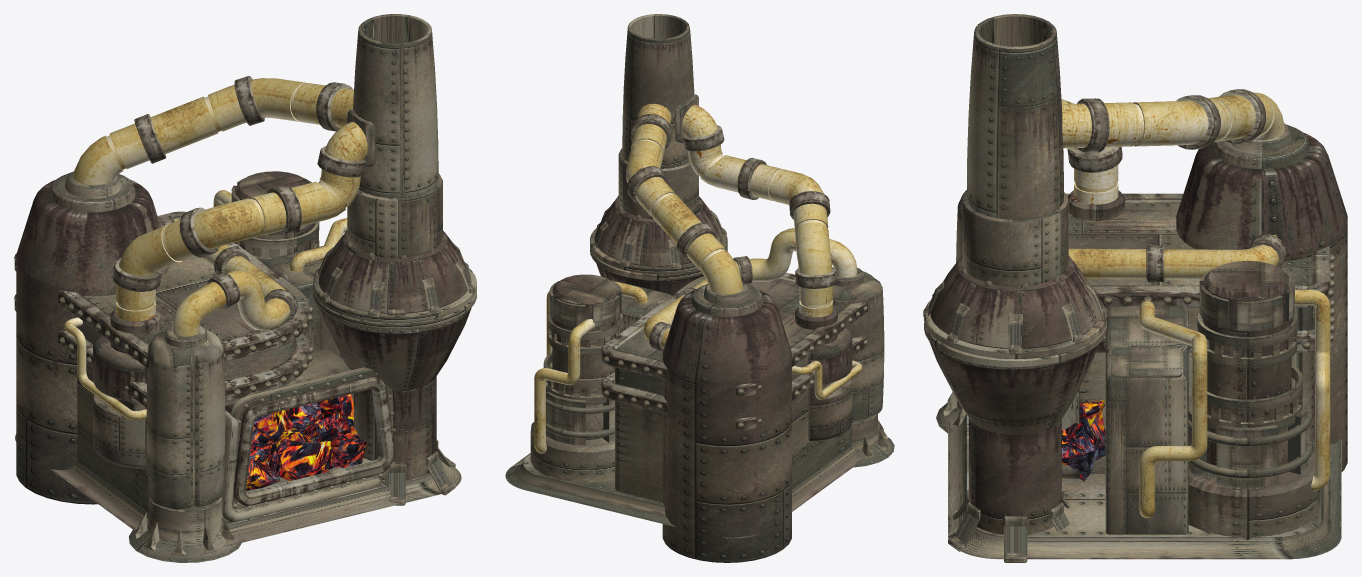
The model's file is static.fbx.
3 renders of one model, left to right at view 1: azimuth 30°, elevation 25°; view 2: azimuth 150°, elevation 25°; view 3: azimuth 270°, elevation 25°, orthographic. The views are drawn at different scales.
Visible parts, largest first — view 1: Cylinder_1_4, Cylinder_2_Cube, Cylinder_Cube, Sweep_1_Cloner, Sweep_Cloner, Extrude, Cylinder_8, Loft, Cylinder_4_2, Sweep_6, Cylinder_3_4, Boole (+38 smaller); view 2: Cylinder_1_4, Extrude, Sweep_1_Cloner, Cylinder_2_Cube, Sweep_Cloner, Loft, Cylinder_Cube, Cylinder_2, Boole, Sweep_1_6, Cylinder_8, Cylinder_1 (+28 smaller); view 3: Cylinder_2_Cube, Cylinder_1_4, Loft, Cube, Cylinder_8, Extrude, Cylinder_1_5, Cylinder_4_2, Cylinder_2, Sweep_Cloner, Cylinder_3_4, Cylinder_1 (+31 smaller).
Part boxes in pixels (x1,y1,x2,y2): Cylinder_1_4: (16, 179, 169, 504); Cylinder_2_Cube: (353, 14, 438, 198); Cylinder_Cube: (146, 330, 225, 509); Sweep_1_Cloner: (116, 122, 367, 321); Sweep_Cloner: (73, 78, 353, 185); Extrude: (77, 256, 294, 512); Cylinder_8: (319, 231, 471, 313); Loft: (15, 433, 461, 547); Cylinder_4_2: (320, 308, 471, 390); Sweep_6: (233, 376, 394, 505); Cylinder_3_4: (347, 173, 442, 257); Boole: (93, 334, 145, 468); Cylinder_1_4: (662, 289, 791, 562); Extrude: (615, 279, 854, 502); Sweep_1_Cloner: (682, 104, 832, 317); Cylinder_2_Cube: (622, 14, 694, 168); Sweep_Cloner: (626, 104, 742, 294); Loft: (505, 445, 863, 538); Cylinder_Cube: (832, 271, 884, 421); Cylinder_2: (552, 274, 618, 439); Boole: (808, 328, 852, 440); Sweep_1_6: (601, 272, 868, 396); Cylinder_8: (594, 196, 722, 266); Cylinder_1: (530, 422, 614, 482); Cylinder_2_Cube: (966, 14, 1063, 219); Cylinder_1_4: (1176, 132, 1347, 471); Loft: (948, 414, 1341, 559); Cube: (1105, 306, 1188, 534); Cylinder_8: (930, 256, 1100, 348); Extrude: (1068, 203, 1312, 473); Cylinder_1_5: (969, 418, 1061, 534); Cylinder_4_2: (929, 341, 1097, 435); Cylinder_2: (1203, 261, 1291, 465); Sweep_Cloner: (1061, 92, 1284, 148); Cylinder_3_4: (962, 192, 1068, 286); Cylinder_1: (1188, 452, 1320, 540).
Size of the model in its own units: 428 by 578 by 418.
Materials: 6 (6 with a texture image).
